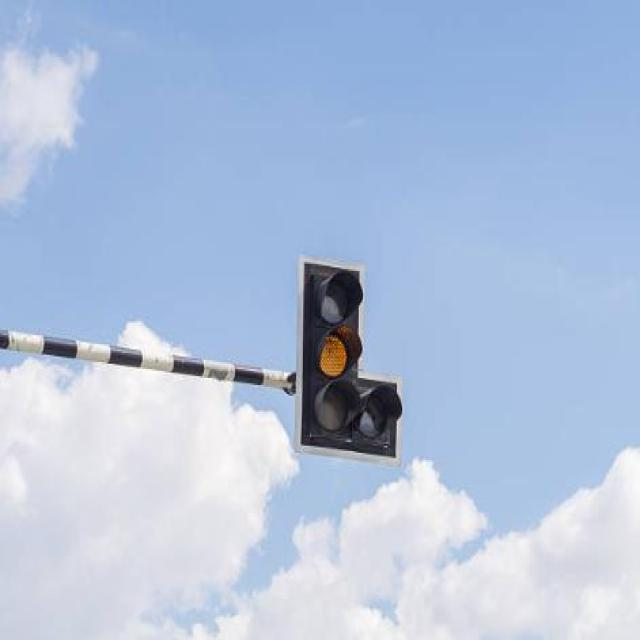yellow_light: (311, 271, 360, 439)
